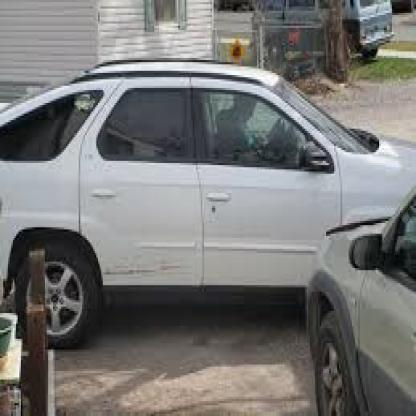car: (0, 5, 416, 353)
